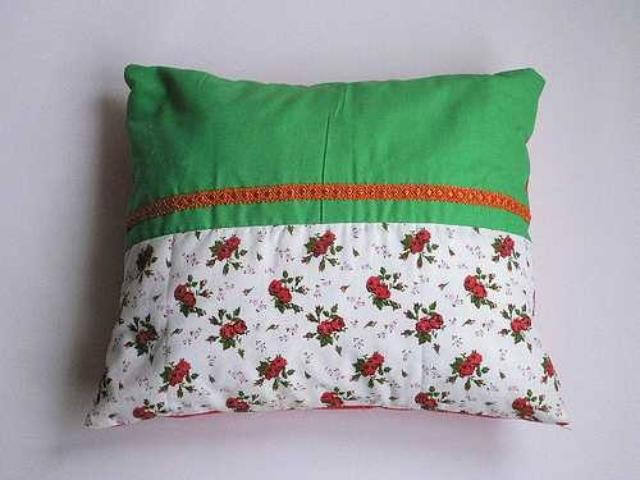pillow: (81, 60, 571, 430)
